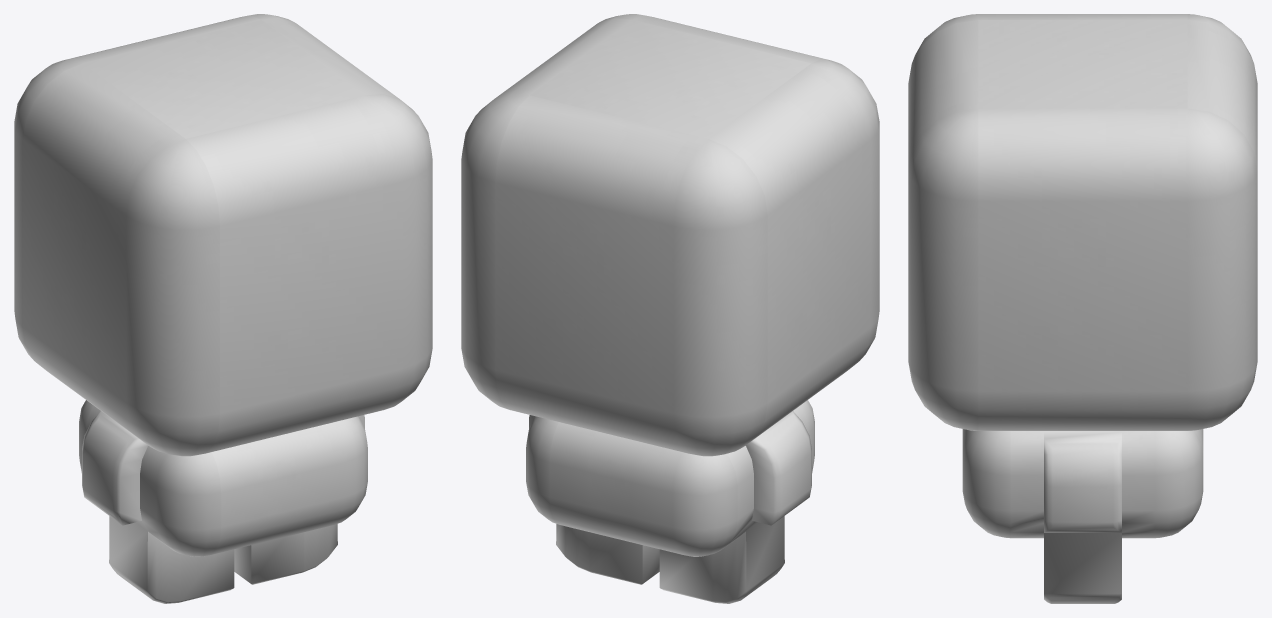
File: body-white.glb
3 renders of one model, left to right at view 1: azimuth 30°, elevation 25°; view 2: azimuth 150°, elevation 25°; view 3: azimuth 270°, elevation 25°, orthographic.
Visible parts, largest first — view 1: body; view 2: body; view 3: body.
Boxes of the visible parts, x1,y1,x2,y2 form: body: (14,14,432,603); body: (461,14,879,603); body: (908,14,1257,603).
Bounding box in the file's own units: 39.78 × 63.45 × 39.78.
Materials: 1 (1 with a texture image).
